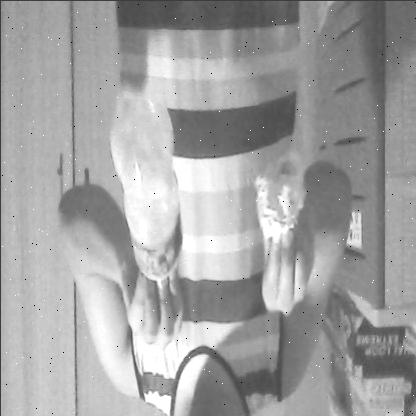Plastic Bottle: (105, 74, 199, 322)
